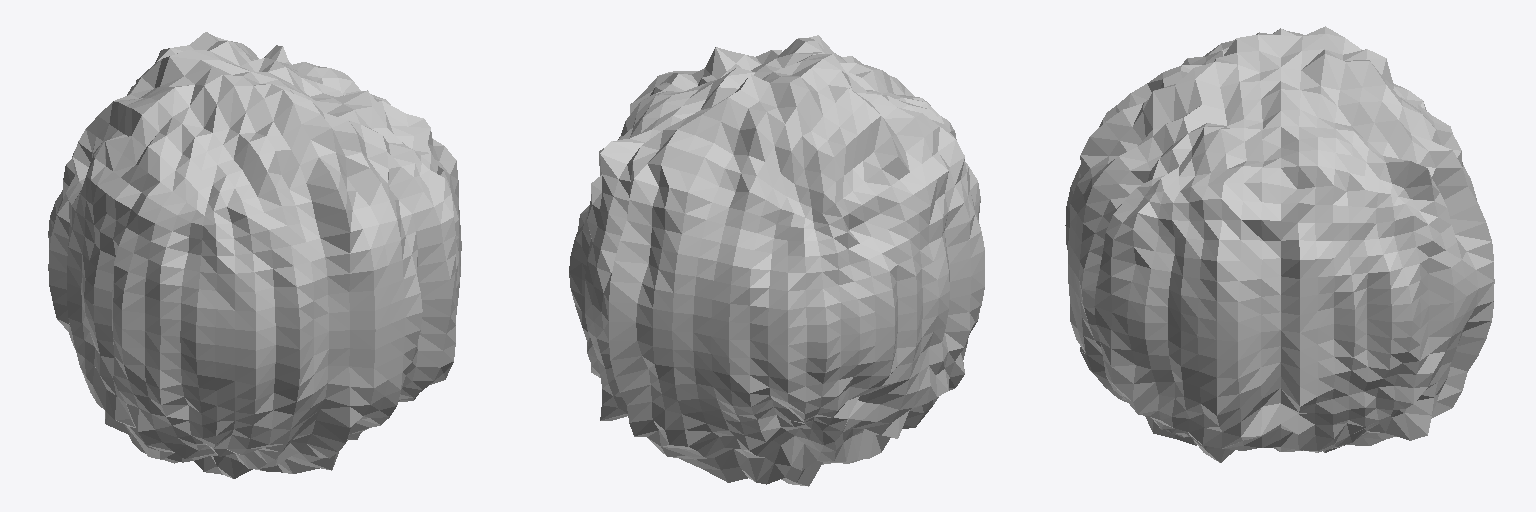
The model's file is asteroid157.obj.
3 renders of one model, left to right at view 1: azimuth 30°, elevation 25°; view 2: azimuth 150°, elevation 25°; view 3: azimuth 270°, elevation 25°, orthographic.
Visible parts, largest first — view 1: Cube_Cube.002; view 2: Cube_Cube.002; view 3: Cube_Cube.002.
Boxes of the visible parts, box(x1,y1,x2,y2) form: Cube_Cube.002: box(48, 32, 461, 478); Cube_Cube.002: box(569, 35, 984, 486); Cube_Cube.002: box(1065, 26, 1494, 462).
Size of the model in its own units: 1.7 by 1.85 by 1.79.